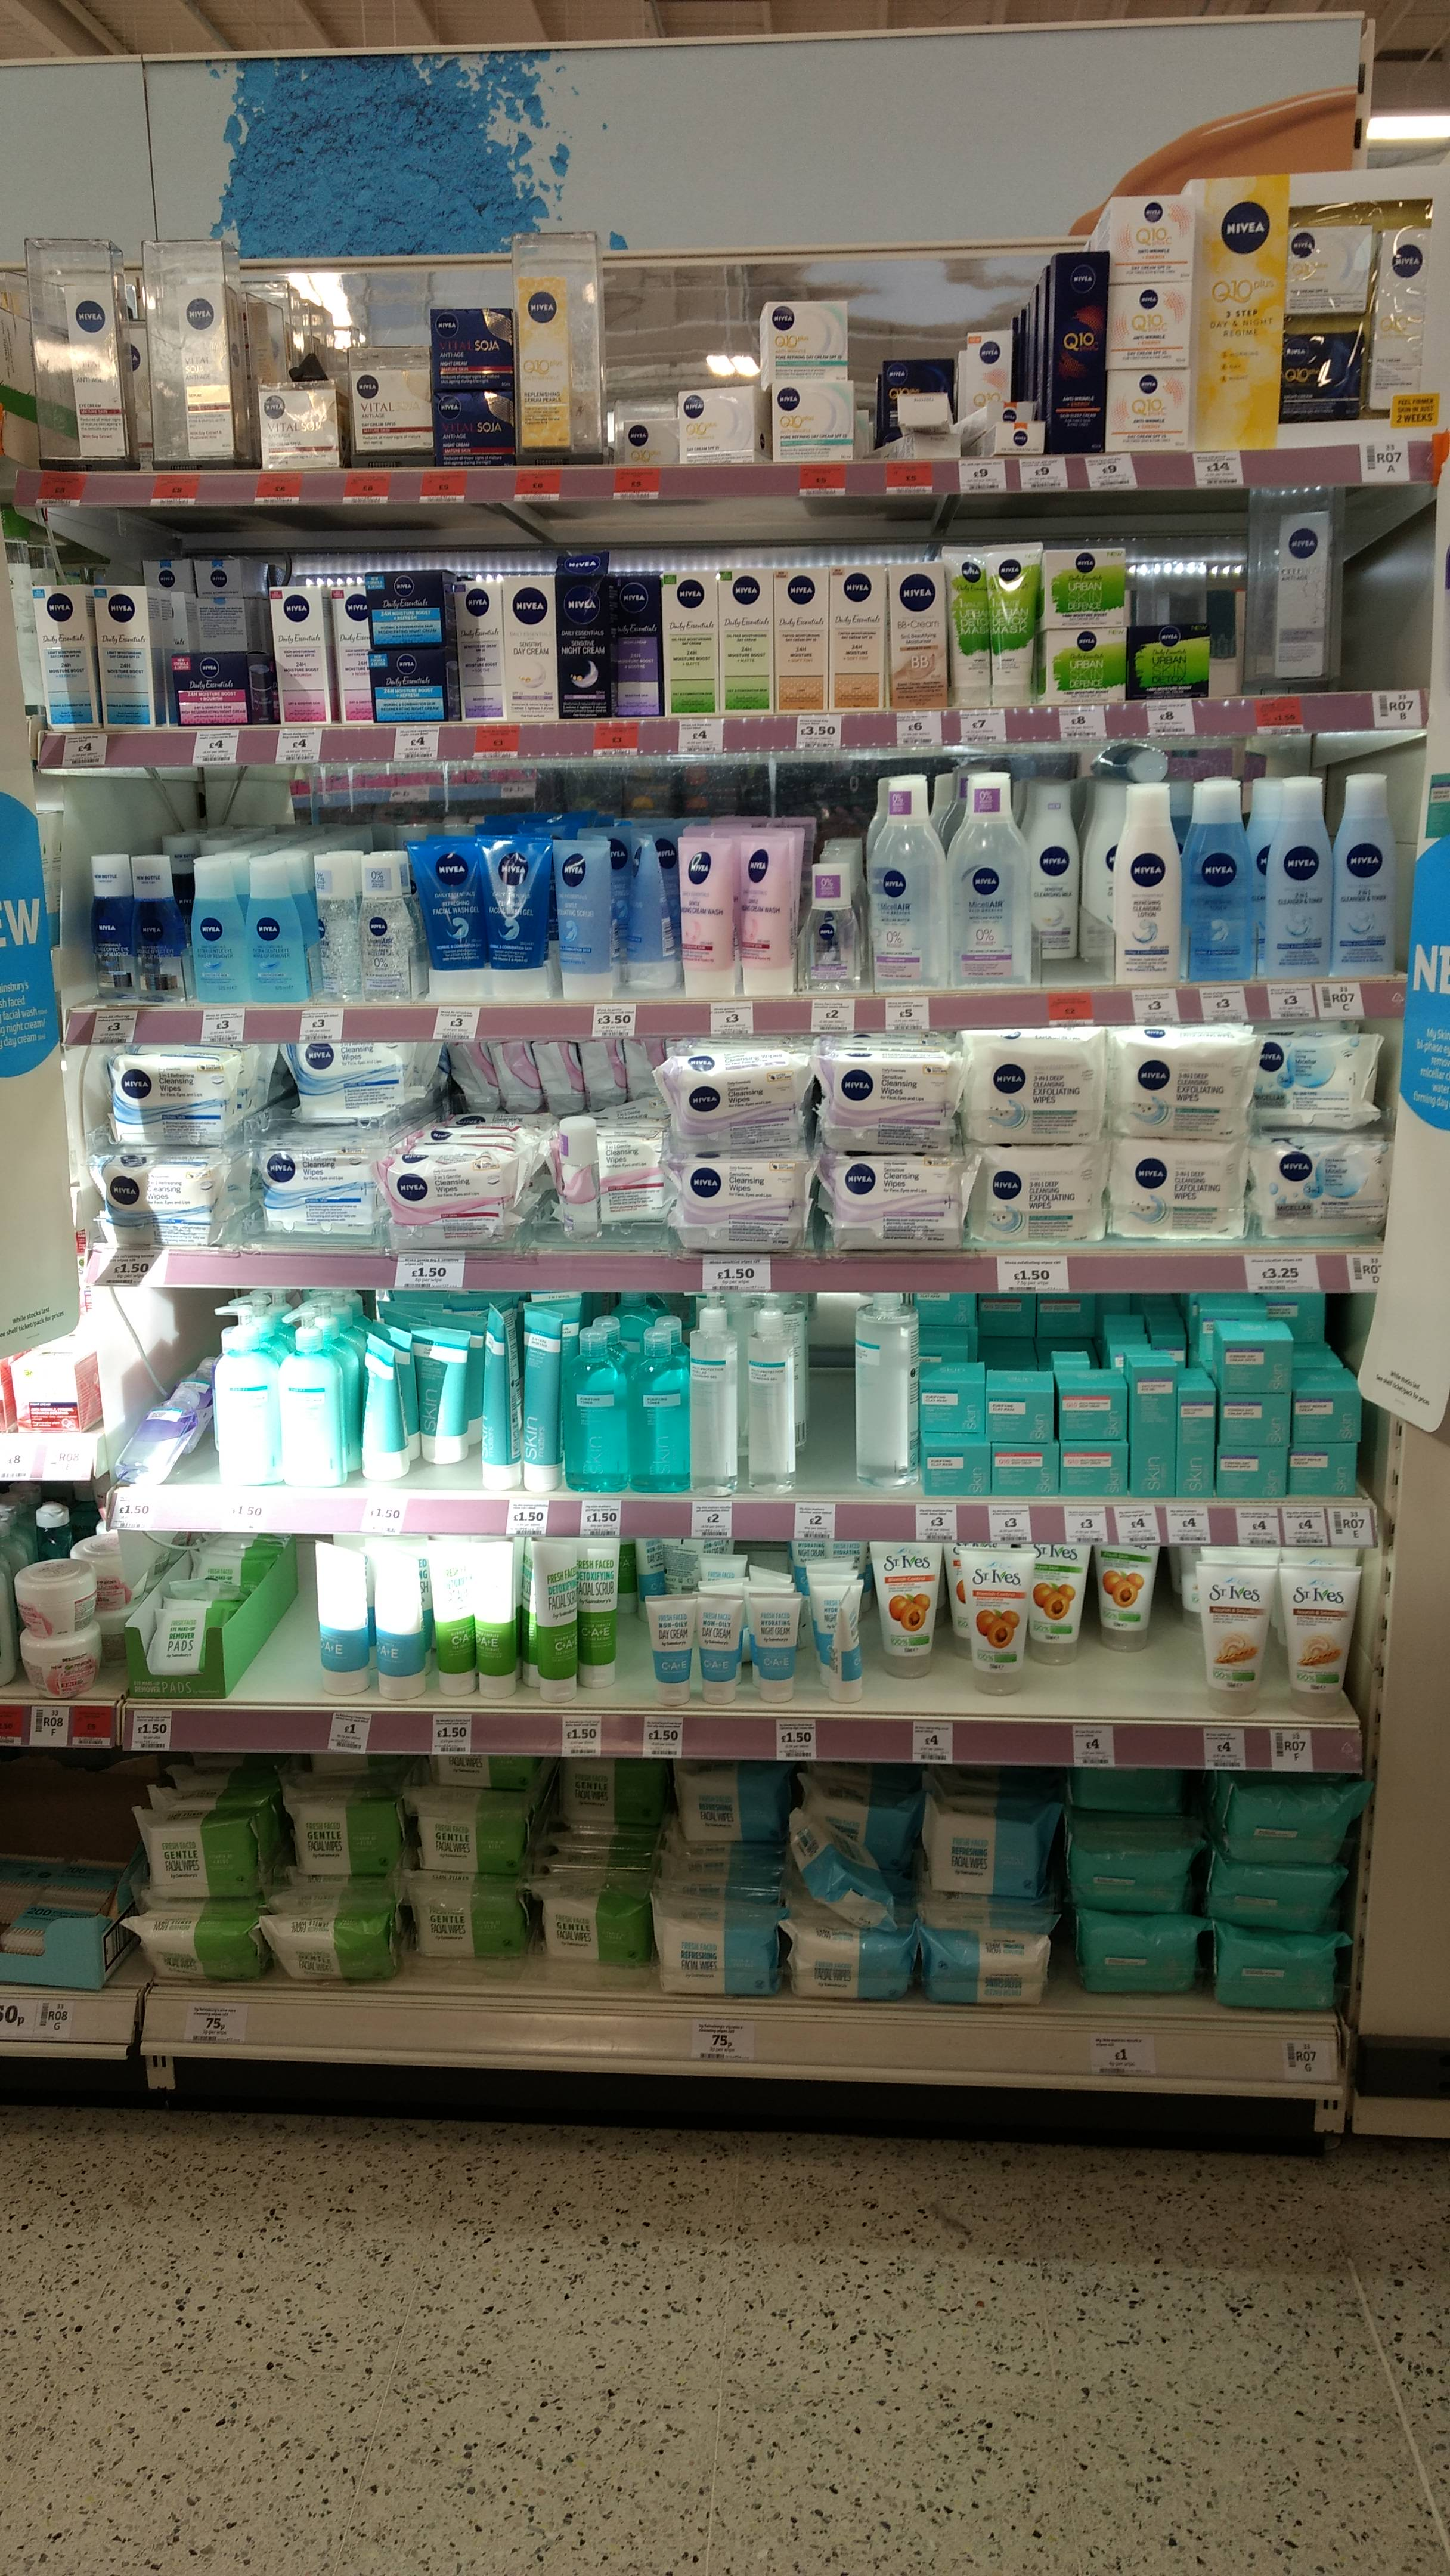Misplacement: (882, 1546, 1038, 1713)
Out-of-stock: (810, 1299, 852, 1499)
